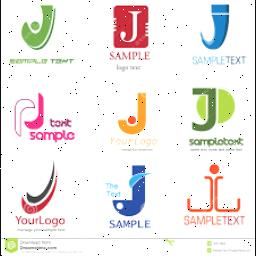j: (14, 5, 66, 59), (105, 166, 159, 216), (196, 0, 240, 54), (115, 92, 155, 140)
